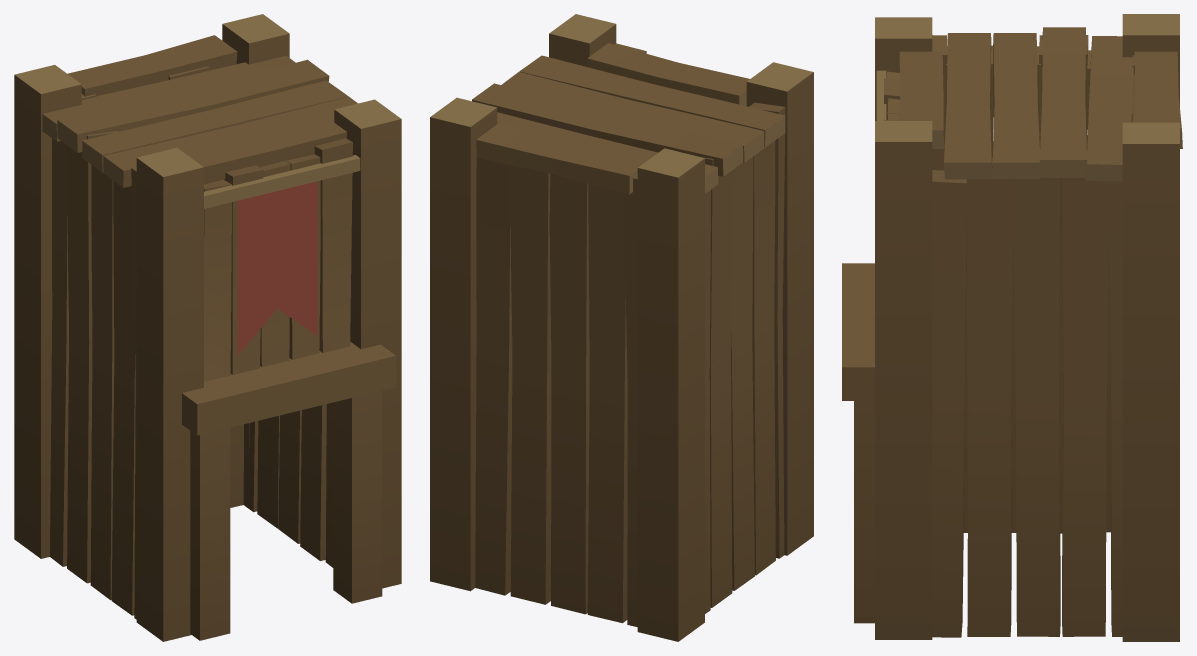
The model's file is tower-0-0.glb.
3 views of the same model, side by side, from view 1: azimuth 30°, elevation 25°; view 2: azimuth 150°, elevation 25°; view 3: azimuth 270°, elevation 25° (orthographic). The views are drawn at different scales.
Visible parts, largest first — view 1: tower:0-0; view 2: tower:0-0; view 3: tower:0-0.
Boxes of the visible parts, x1,y1,x2,y2 form: tower:0-0: (14,14,401,641); tower:0-0: (430,14,813,641); tower:0-0: (842,14,1182,641).
Size of the model in its own units: 1.47 by 2.6 by 1.61.
